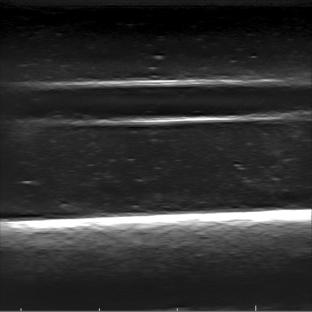vessel: (16, 77, 308, 126)
